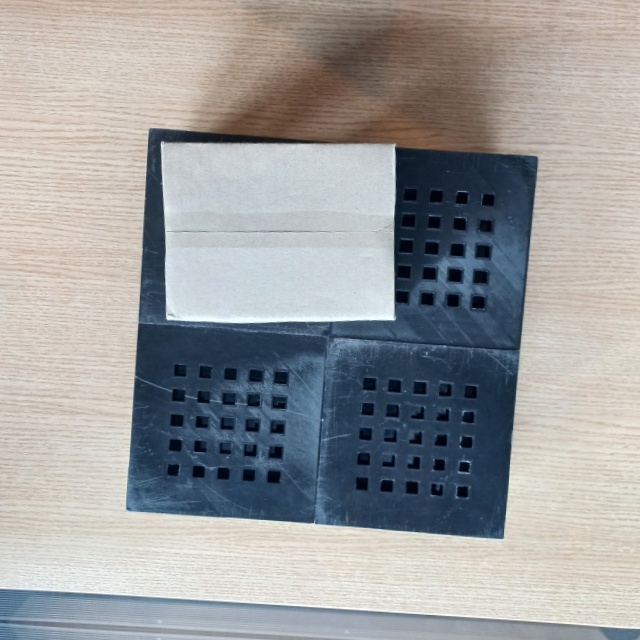box: (156, 132, 399, 329)
pallet: (126, 119, 541, 542)
